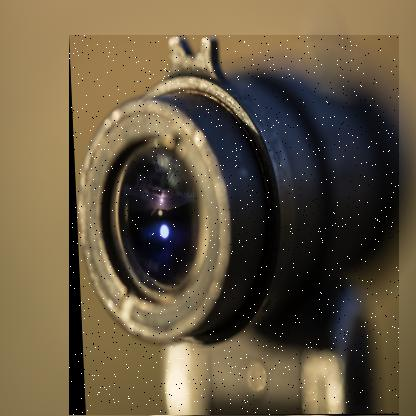Camera: (70, 36, 401, 416)
